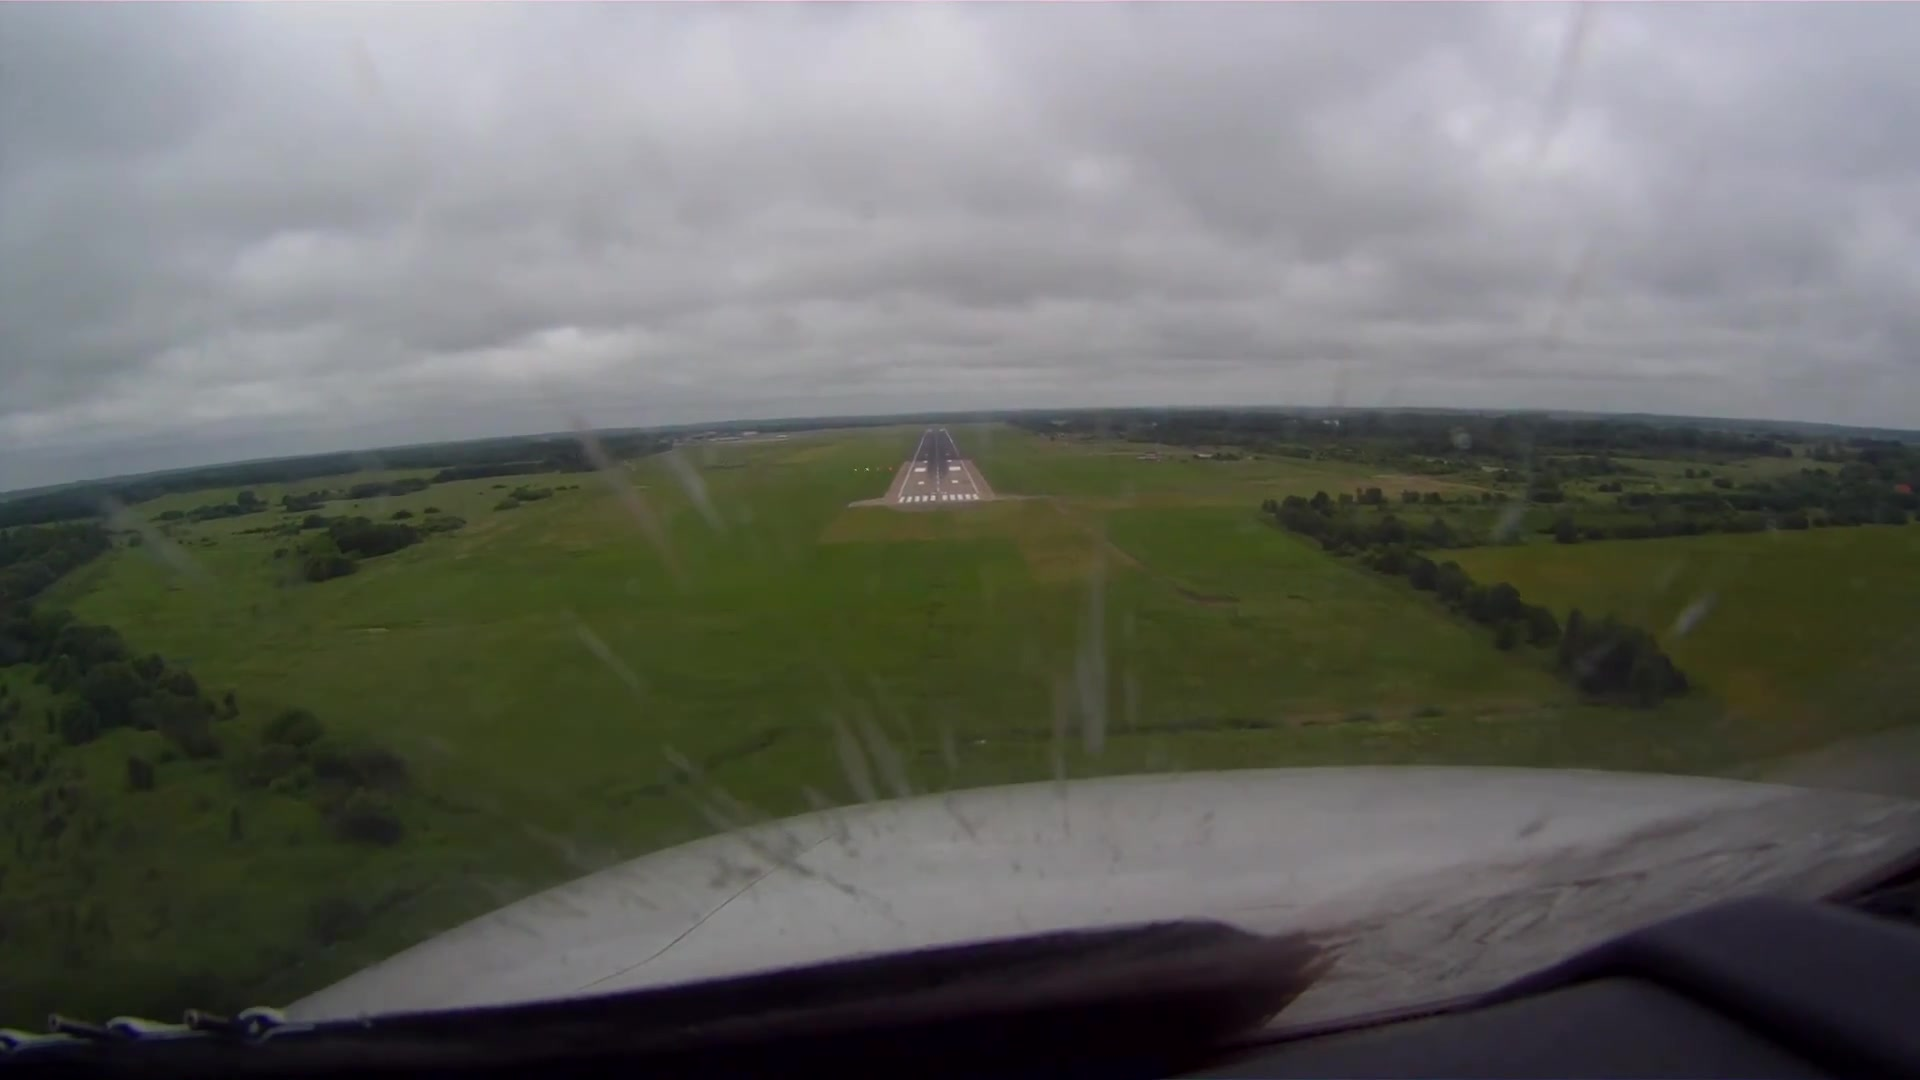entrance: (897, 495, 978, 502)
runway: (895, 426, 980, 506)
